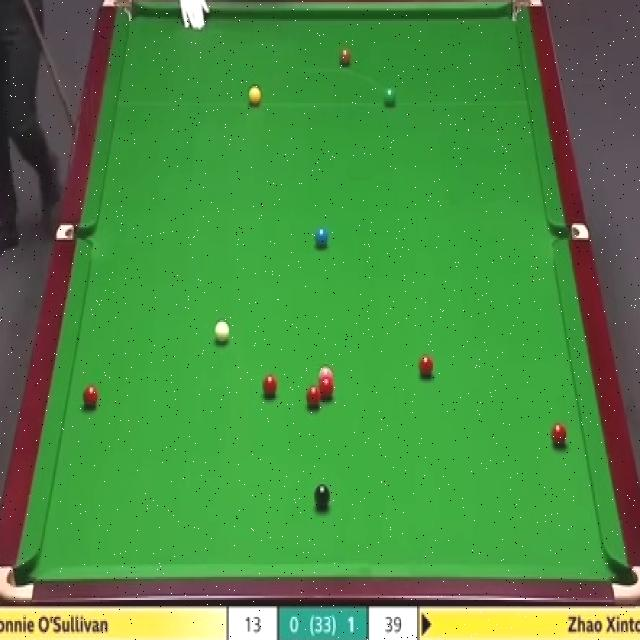black-ball: (313, 484, 331, 509)
blue-ball: (315, 228, 327, 250)
brown-ball: (337, 48, 353, 68)
green-ball: (382, 85, 396, 107)
pink-ball: (318, 366, 330, 387)
red-ball: (550, 421, 567, 449), (306, 385, 322, 411), (81, 387, 98, 410), (418, 355, 433, 378), (262, 377, 278, 398), (320, 382, 334, 404)
white-ball: (214, 320, 230, 345)
yellow-ball: (248, 85, 261, 105)
